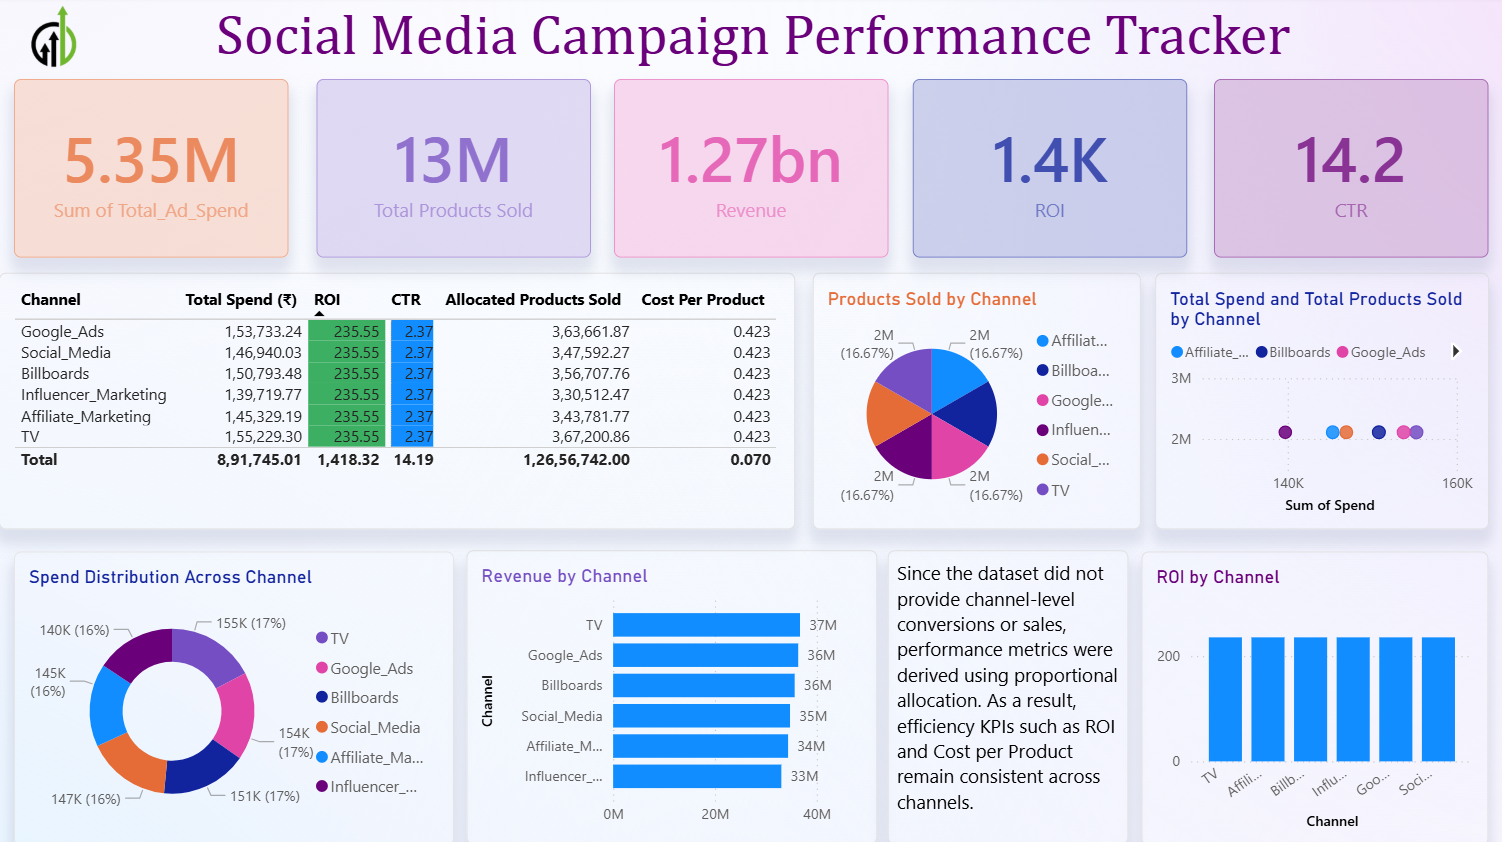

The page's visual inventory and layout, read from the dashboard file:
{"tool":"powerbi","page":{"name":"Page 1","canvas":[1280,720],"ordinal":0},"visuals":[{"type":"donutChart","title":"Spend Distribution Across Channel","fields":{"Category":["Advertising_Data.Channel"],"Y":["Sum(Advertising_Data.Spend)"]},"box":[12.8,469.8,374.4,250],"z":0},{"type":"textbox","box":[107.8,0,1069.1,68.3],"z":1000},{"type":"clusteredBarChart","fields":{"Category":["Advertising_Data.Channel"],"Y":["Advertising_Data.Revenue"]},"box":[398,469.5,350,250.7],"z":2000},{"type":"tableEx","fields":{"Values":["Advertising_Data.Channel","Advertising_Data.Total Spend","Advertising_Data.ROI","Advertising_Data.CTR","Advertising_Data.Allocated Products Sold","Advertising_Data.Cost Per Product"]},"box":[0,233,677.7,218.1],"z":3000},{"type":"scatterChart","title":"Total Spend and Total Products Sold by Channel","fields":{"X":["Sum(Advertising_Data.Spend)"],"Y":["Sum(Advertising_Data.Product_Sold)"],"Series":["Advertising_Data.Channel"],"Size":["Sum(Advertising_Data.Spend)"]},"box":[983.7,232.6,283.7,218.6],"z":4000},{"type":"columnChart","fields":{"Category":["Advertising_Data.Channel"],"Y":["Advertising_Data.ROI"]},"box":[972.1,469.8,295.3,250],"z":5000},{"type":"pieChart","title":"Products Sold by Channel","fields":{"Category":["Advertising_Data.Channel"],"Y":["Sum(Advertising_Data.Product_Sold)"]},"box":[693,232.6,279.1,218.6],"z":6000},{"type":"card","fields":{"Values":["Sum(Advertising_Data.Total_Ad_Spend)"]},"box":[12.8,68.6,233.7,152.3],"z":7000},{"type":"card","fields":{"Values":["Advertising_Data.Total Products Sold"]},"box":[269.8,68.6,233.7,152.3],"z":8000},{"type":"card","fields":{"Values":["Advertising_Data.Revenue"]},"box":[523.3,68.6,233.7,152.3],"z":9000},{"type":"card","fields":{"Values":["Advertising_Data. ROI %"]},"box":[777.9,68.6,233.7,152.3],"z":10000},{"type":"card","fields":{"Values":["Advertising_Data.CTR"]},"box":[1033.7,68.6,233.7,152.3],"z":11000},{"type":"textbox","box":[756.5,469.5,204.9,250.7],"z":11001},{"type":"image","box":[12.8,0,69.1,68.1],"z":11002}]}

Visuals, with their boxes in screenshot pixels (x1, y1, x2, y2), scaled from the page's 1280x720 canvas onto the 1502x842 screenshot:
"Spend Distribution Across Channel" donutChart: <region>15, 549, 454, 841</region>
textbox: <region>126, 0, 1381, 80</region>
clusteredBarChart - Advertising_Data.Channel x Advertising_Data.Revenue: <region>467, 549, 878, 841</region>
tableEx - Advertising_Data.Channel x Advertising_Data.Total Spend: <region>0, 272, 795, 528</region>
"Total Spend and Total Products Sold by Channel" scatterChart: <region>1154, 272, 1487, 528</region>
columnChart - Advertising_Data.Channel x Advertising_Data.ROI: <region>1141, 549, 1487, 841</region>
"Products Sold by Channel" pieChart: <region>813, 272, 1141, 528</region>
card - Sum(Advertising_Data.Total_Ad_Spend): <region>15, 80, 289, 258</region>
card - Advertising_Data.Total Products Sold: <region>317, 80, 591, 258</region>
card - Advertising_Data.Revenue: <region>614, 80, 888, 258</region>
card - Advertising_Data. ROI %: <region>913, 80, 1187, 258</region>
card - Advertising_Data.CTR: <region>1213, 80, 1487, 258</region>
textbox: <region>888, 549, 1128, 841</region>
image: <region>15, 0, 96, 80</region>
